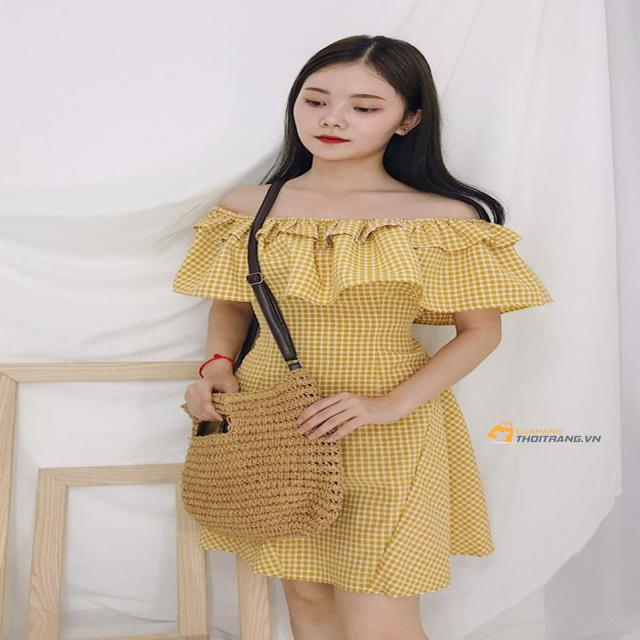clothes: (169, 167, 559, 593)
